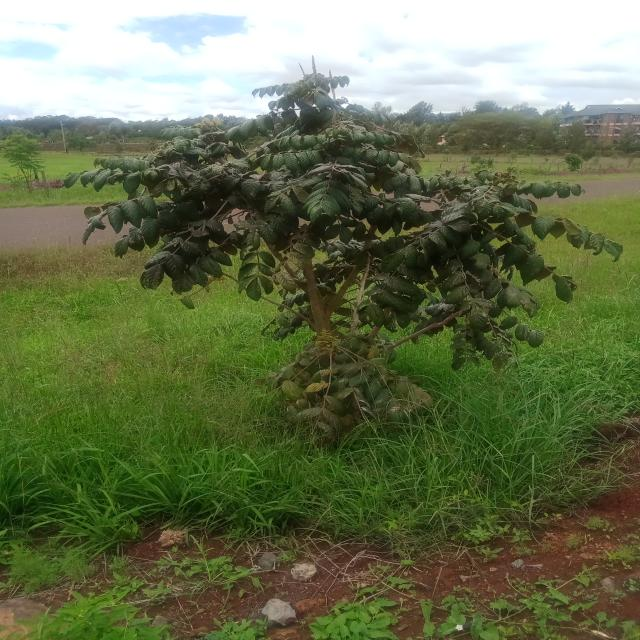Polyscias Kikuyensis: (70, 68, 623, 433)
